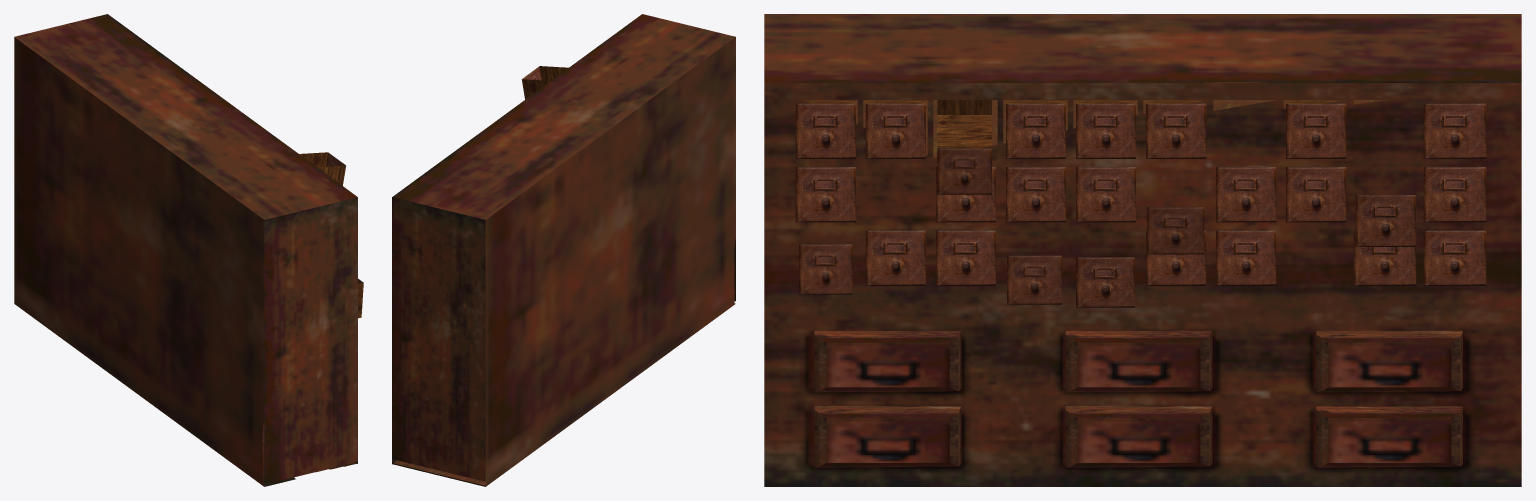
File: Almoxarifado.fbx
The picture shows the model from 3 angles, left to right: view 1: azimuth 30°, elevation 25°; view 2: azimuth 150°, elevation 25°; view 3: azimuth 270°, elevation 25°; orthographic projection. The views are drawn at different scales.
Parts seen in each view (by area): view 1: Almoxarifado; view 2: Almoxarifado; view 3: Almoxarifado.
Part boxes in pixels (left/top/right/bottom): Almoxarifado: left=14, top=14, right=363, bottom=486; Almoxarifado: left=392, top=14, right=735, bottom=486; Almoxarifado: left=764, top=14, right=1521, bottom=486.
Size of the model in its own units: 208 by 382 by 649.
Materials: 2 (2 with a texture image).
